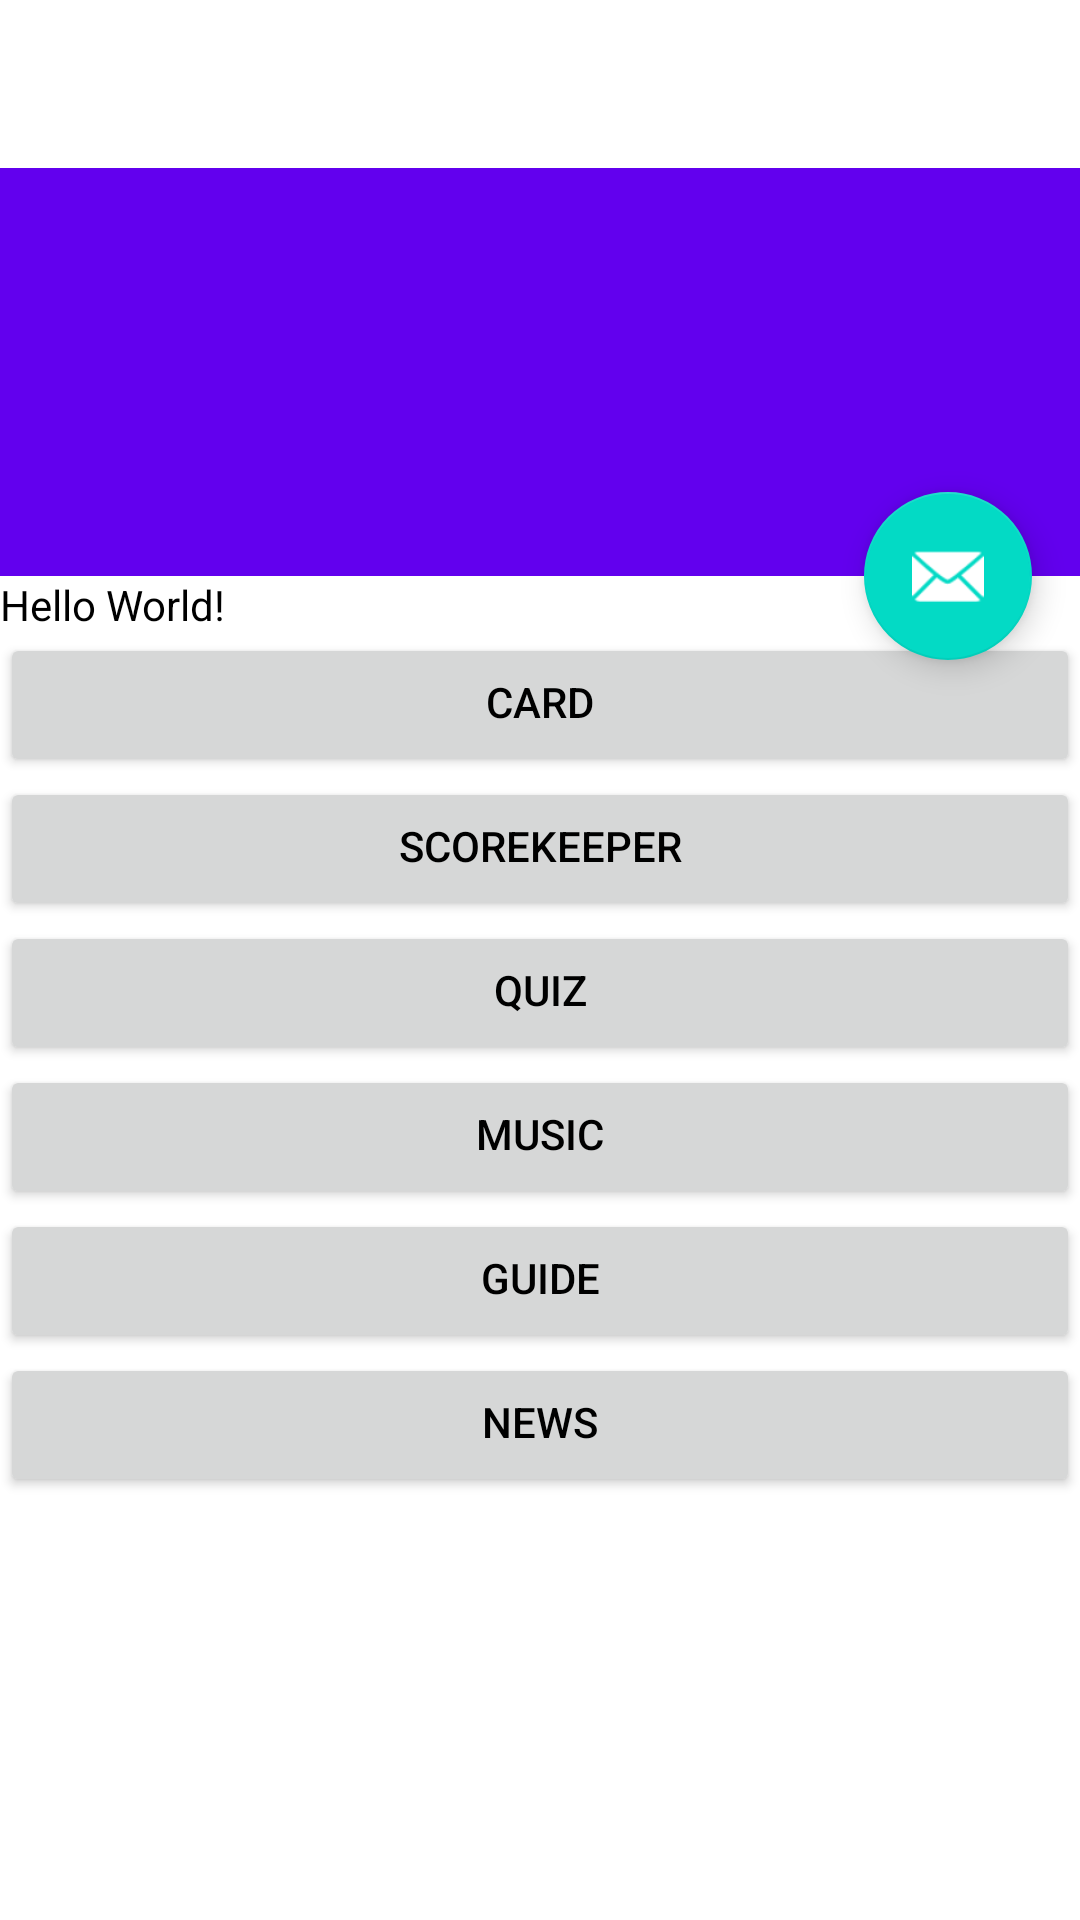

Where to tap for icons on this 1080×1920 app screen, as point (x, y):
email: point (948, 576)
